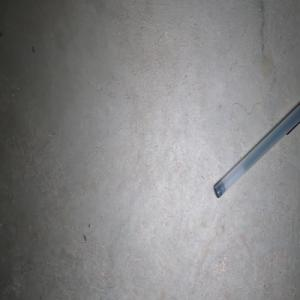Pen: (214, 103, 300, 198)
